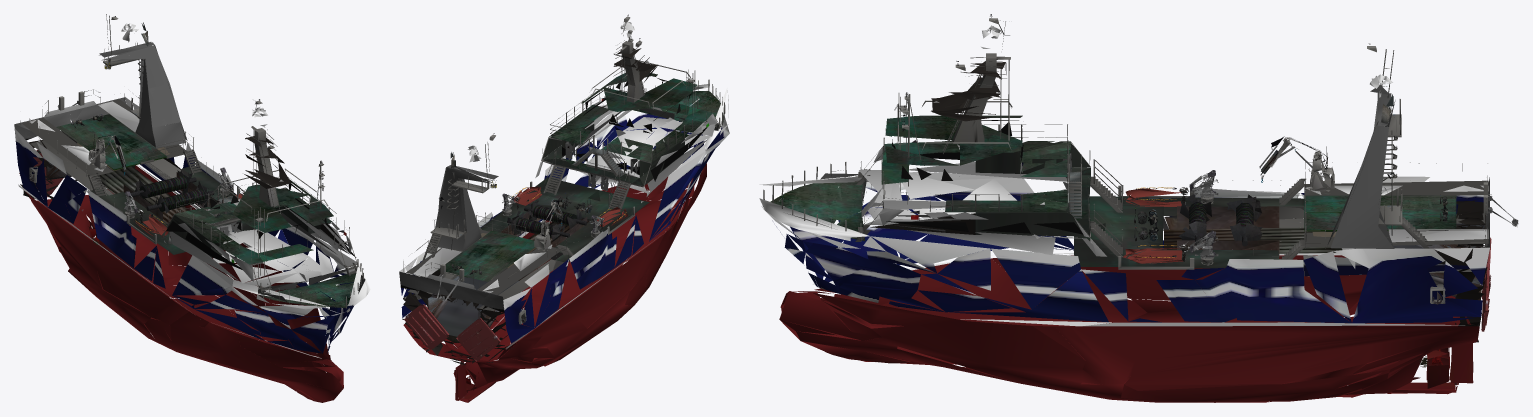
File: stern-trawler-40m-far.glb
The picture shows the model from 3 angles, left to right: view 1: azimuth 30°, elevation 25°; view 2: azimuth 150°, elevation 25°; view 3: azimuth 270°, elevation 25°; orthographic projection. The views are drawn at different scales.
Parts seen in each view (by area): view 1: Object_73, Object_80, Object_74, Object_58, Object_79, Object_71, Object_15, Object_46, Object_52, Object_44, Object_70, Object_11 (+4 smaller); view 2: Object_80, Object_73, Object_58, Object_74, Object_71, Object_79, Object_37, Object_44, Object_15, Object_52, Object_11, Object_7 (+5 smaller); view 3: Object_80, Object_73, Object_74, Object_58, Object_71, Object_79, Object_15, Object_44, Object_70, Object_46, Object_11, Object_51 (+4 smaller).
Part boxes in pixels (<box>): Object_73: <box>14,98,370,353</box>; Object_80: <box>25,165,343,402</box>; Object_74: <box>56,114,356,307</box>; Object_58: <box>20,14,363,308</box>; Object_79: <box>14,42,365,305</box>; Object_71: <box>87,165,320,257</box>; Object_15: <box>18,136,356,257</box>; Object_46: <box>92,166,189,223</box>; Object_52: <box>140,175,204,211</box>; Object_44: <box>45,160,215,220</box>; Object_70: <box>18,23,321,358</box>; Object_11: <box>166,193,348,269</box>; Object_80: <box>403,163,706,402</box>; Object_73: <box>399,84,729,343</box>; Object_58: <box>403,17,725,324</box>; Object_74: <box>438,71,723,281</box>; Object_71: <box>481,120,684,262</box>; Object_79: <box>399,78,724,312</box>; Object_37: <box>404,304,500,399</box>; Object_44: <box>428,201,591,336</box>; Object_15: <box>402,48,657,364</box>; Object_52: <box>515,205,576,237</box>; Object_11: <box>562,81,709,181</box>; Object_7: <box>514,186,627,226</box>; Object_80: <box>779,255,1479,402</box>; Object_73: <box>759,141,1489,323</box>; Object_74: <box>770,115,1456,241</box>; Object_58: <box>763,18,1488,303</box>; Object_71: <box>975,143,1304,268</box>; Object_79: <box>763,93,1490,271</box>; Object_15: <box>870,61,1487,342</box>; Object_44: <box>1150,206,1484,300</box>; Object_70: <box>812,25,1464,326</box>; Object_46: <box>1149,210,1342,253</box>; Object_11: <box>886,125,1083,234</box>; Object_51: <box>1178,193,1262,240</box>.
Size of the model in its own units: 11.53 by 26.12 by 47.64.
61 materials, 53 textured.
